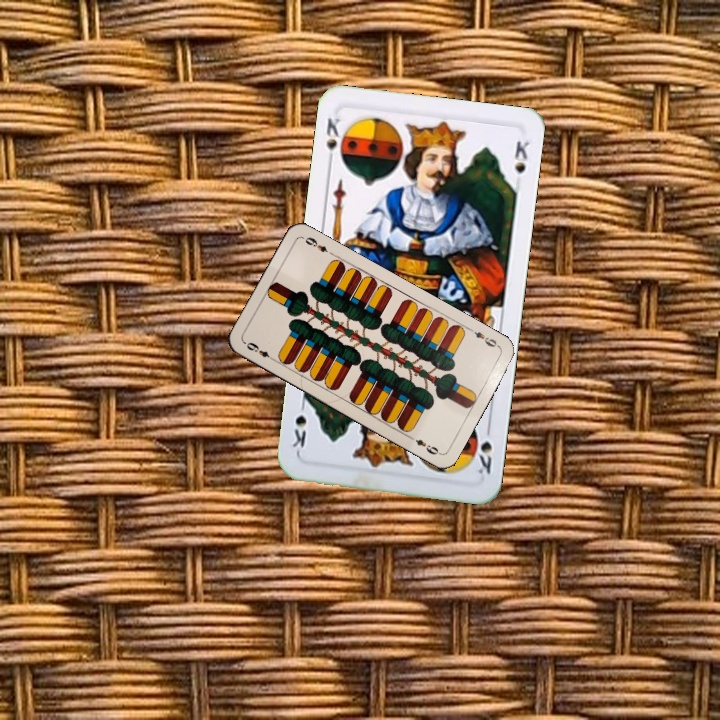E9: (241, 338, 278, 364), (465, 324, 502, 350)
SK: (469, 420, 495, 479), (322, 113, 349, 168)
